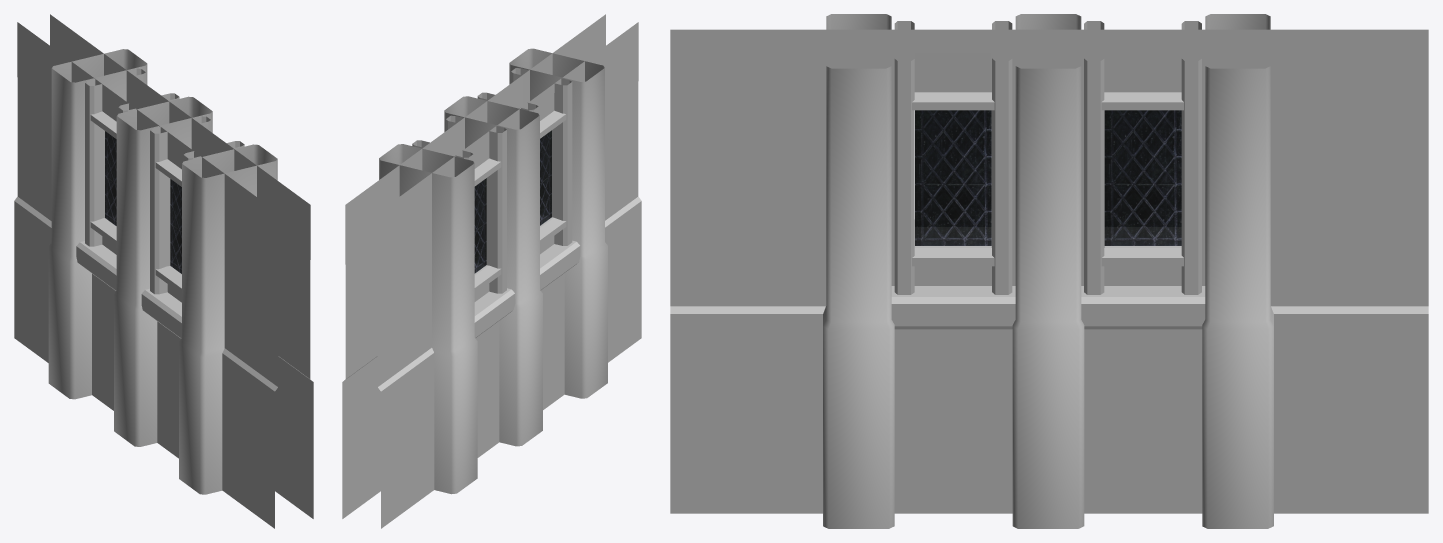
File: House_01_Side_02.FBX
3 renders of one model, left to right at view 1: azimuth 30°, elevation 25°; view 2: azimuth 150°, elevation 25°; view 3: azimuth 270°, elevation 25°, orthographic. The views are drawn at different scales.
Visible parts, largest first — view 1: House_01_Side_02; view 2: House_01_Side_02; view 3: House_01_Side_02.
Boxes of the visible parts, left/top/right/bottom form: House_01_Side_02: left=14, top=14, right=313, bottom=528; House_01_Side_02: left=342, top=14, right=641, bottom=528; House_01_Side_02: left=670, top=14, right=1428, bottom=528.
Size of the model in its own units: 34.36 by 128 by 192.
